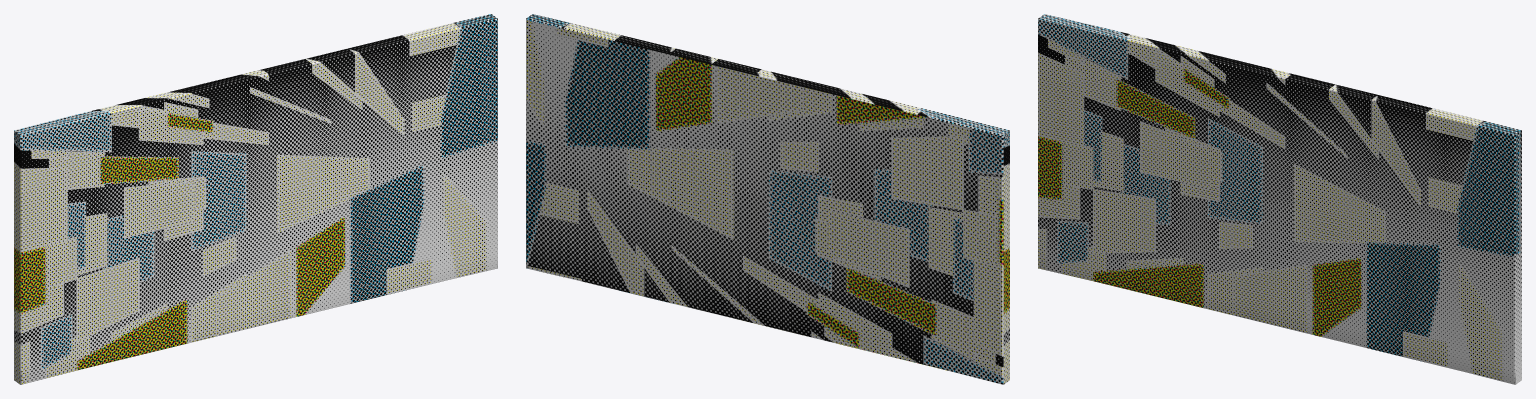
File: ArtP-RtMdU.fbx
3 views of the same model, side by side, from view 1: azimuth 30°, elevation 25°; view 2: azimuth 150°, elevation 25°; view 3: azimuth 330°, elevation 25° (orthographic).
Visible parts, largest first — view 1: ArtP_Planes1; view 2: ArtP_Planes1; view 3: ArtP_Planes1.
Part boxes in pixels (x1,y1,x2,y2): ArtP_Planes1: (14, 14, 497, 384); ArtP_Planes1: (526, 14, 1009, 384); ArtP_Planes1: (1038, 14, 1521, 384).
Bounding box in the file's own units: 137 × 68.77 × 3.81.
